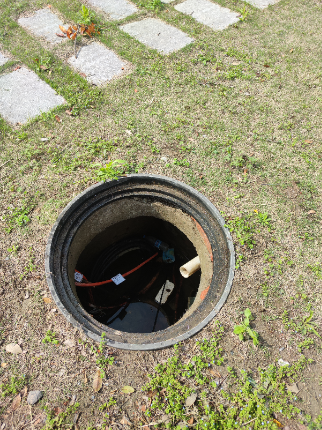lose: (44, 173, 235, 350)
